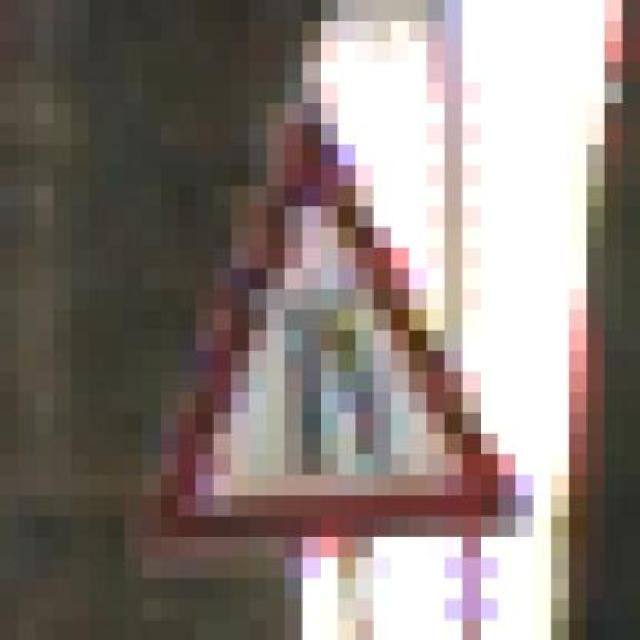-Road narrows on right: (106, 41, 534, 578)
